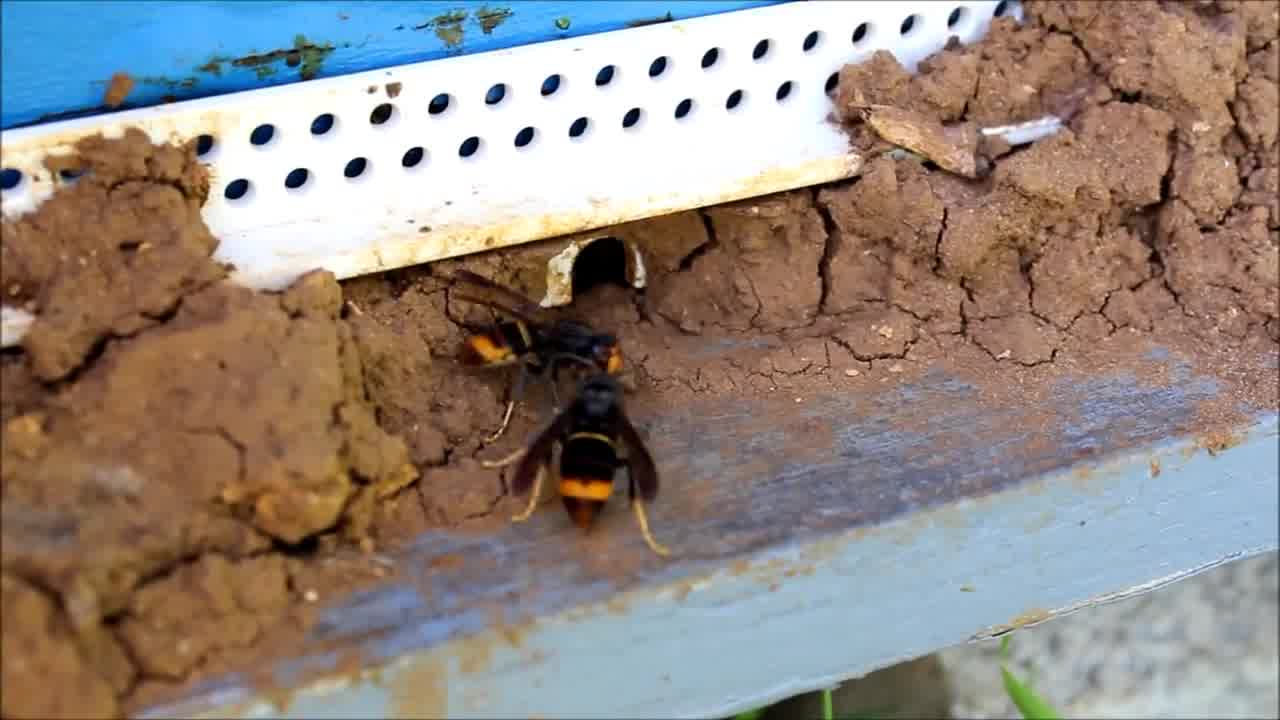hornet: (527, 357, 671, 553), (443, 286, 635, 396)
